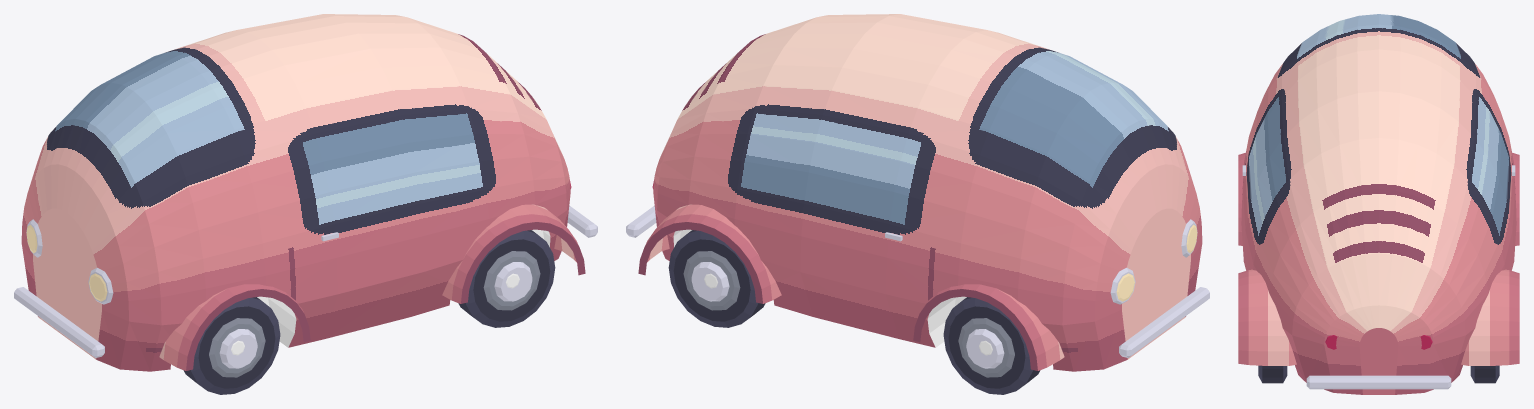
File: microcar-v1.glb
3 views of the same model, side by side, from view 1: azimuth 30°, elevation 25°; view 2: azimuth 150°, elevation 25°; view 3: azimuth 270°, elevation 25° (orthographic). The views are drawn at different scales.
Parts seen in each view (by area): view 1: Body_static, Wheel_FL_tire_hub, Wheel_RL_tire_hub; view 2: Body_static, Wheel_FR_tire_hub, Wheel_RR_tire_hub; view 3: Body_static, Wheel_RL_tire_hub, Wheel_RR_tire_hub.
Part boxes in pixels (left/top/right/bottom): Body_static: left=14, top=14, right=597, bottom=371; Wheel_FL_tire_hub: left=183, top=297, right=280, bottom=394; Wheel_RL_tire_hub: left=458, top=230, right=555, bottom=327; Body_static: left=626, top=14, right=1209, bottom=371; Wheel_FR_tire_hub: left=943, top=297, right=1040, bottom=394; Wheel_RR_tire_hub: left=668, top=230, right=765, bottom=327; Body_static: left=1238, top=14, right=1519, bottom=394; Wheel_RL_tire_hub: left=1258, top=365, right=1287, bottom=383; Wheel_RR_tire_hub: left=1470, top=365, right=1499, bottom=383.
Bounding box in the file's own units: 55.65 × 29.91 × 30.43.
1 material, 1 textured.
